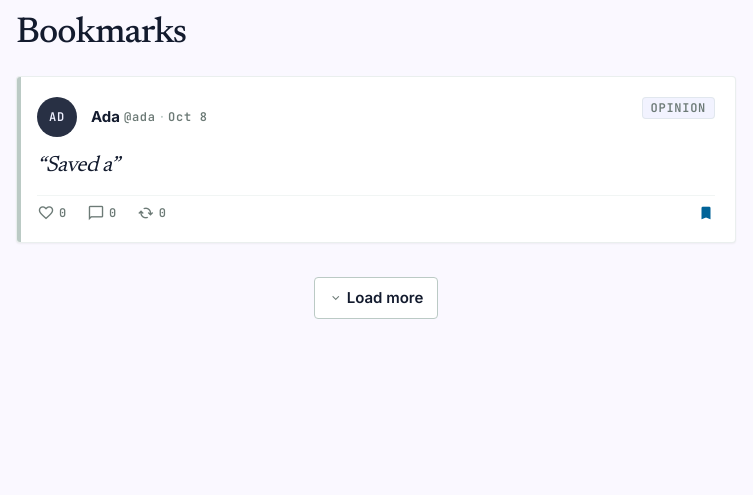
Scenario: BookmarkList › loads the next page with the cursor, then says you're caught up
Click the button "Load more" at (376, 298), box [314,277,438,319]
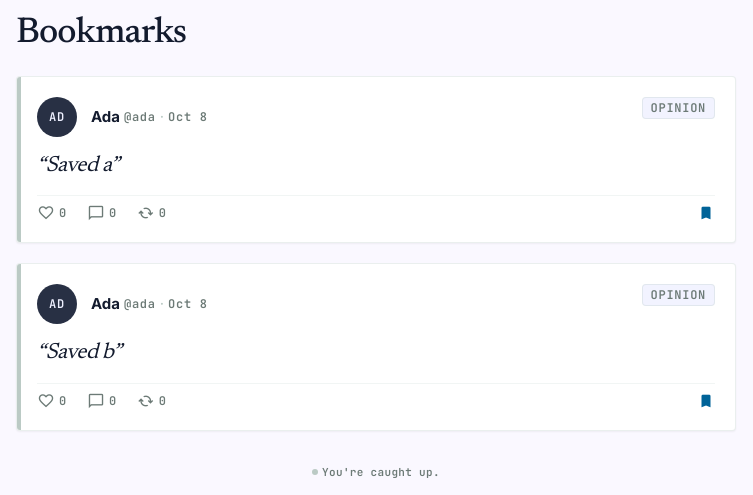
expect the link "“Saved b”" is shown: met, box [37,342,121,364]
expect the text "You're caught up." is shown: met, box [312,464,440,478]
